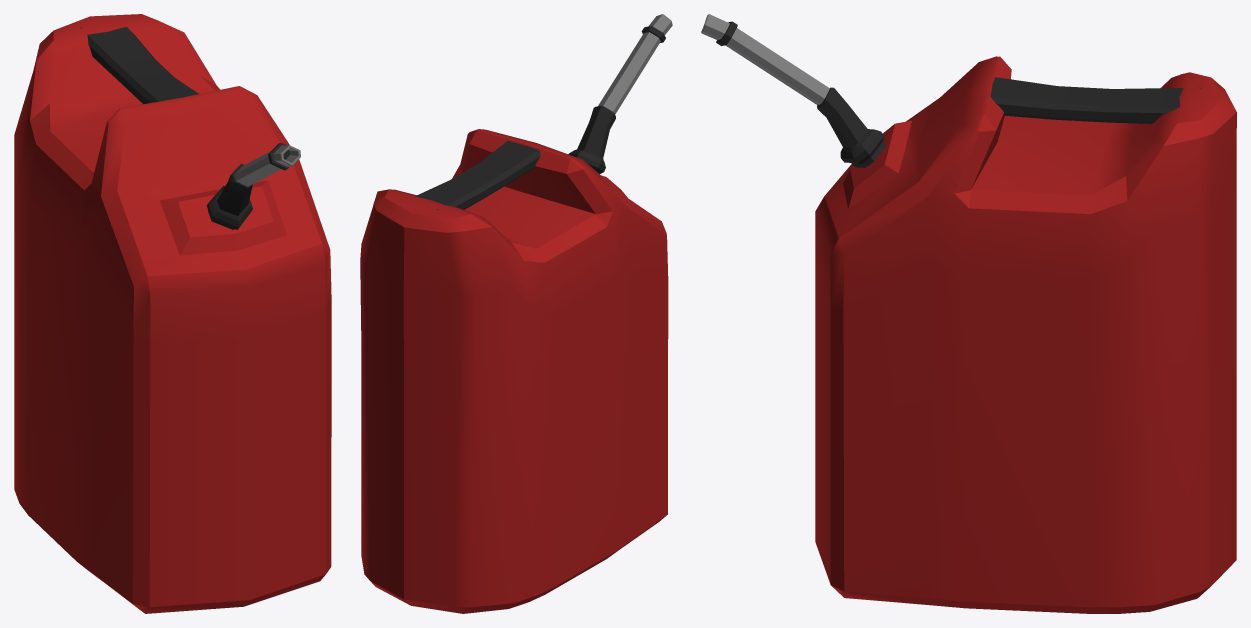
File: Fuel_Cannister.fbx
3 views of the same model, side by side, from view 1: azimuth 30°, elevation 25°; view 2: azimuth 150°, elevation 25°; view 3: azimuth 270°, elevation 25° (orthographic). The views are drawn at different scales.
Parts seen in each view (by area): view 1: pasted__pCube3; view 2: pasted__pCube3; view 3: pasted__pCube3.
Boxes of the visible parts, <box> form: pasted__pCube3: <box>14,14,331,613</box>; pasted__pCube3: <box>360,14,672,613</box>; pasted__pCube3: <box>701,14,1236,613</box>.
Size of the model in its own units: 0.7905 by 1.76 by 1.59.
